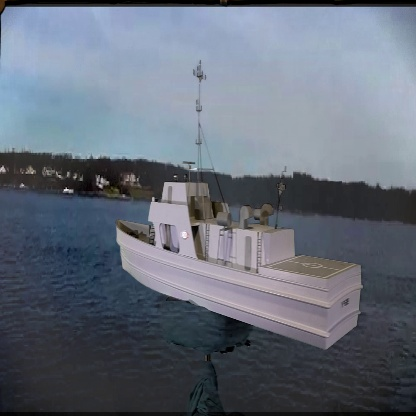YP689: (115, 56, 364, 349)
